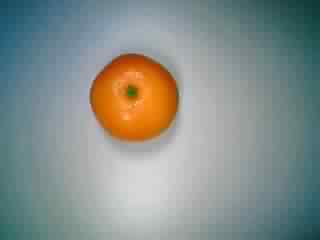orange: (85, 47, 180, 143)
